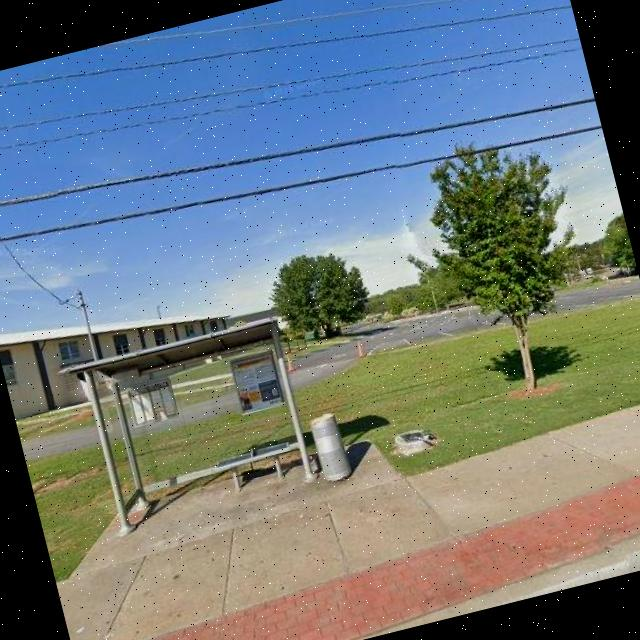seating: (211, 438, 299, 498)
shelter: (56, 314, 322, 542)
trash_can: (306, 411, 354, 485)
